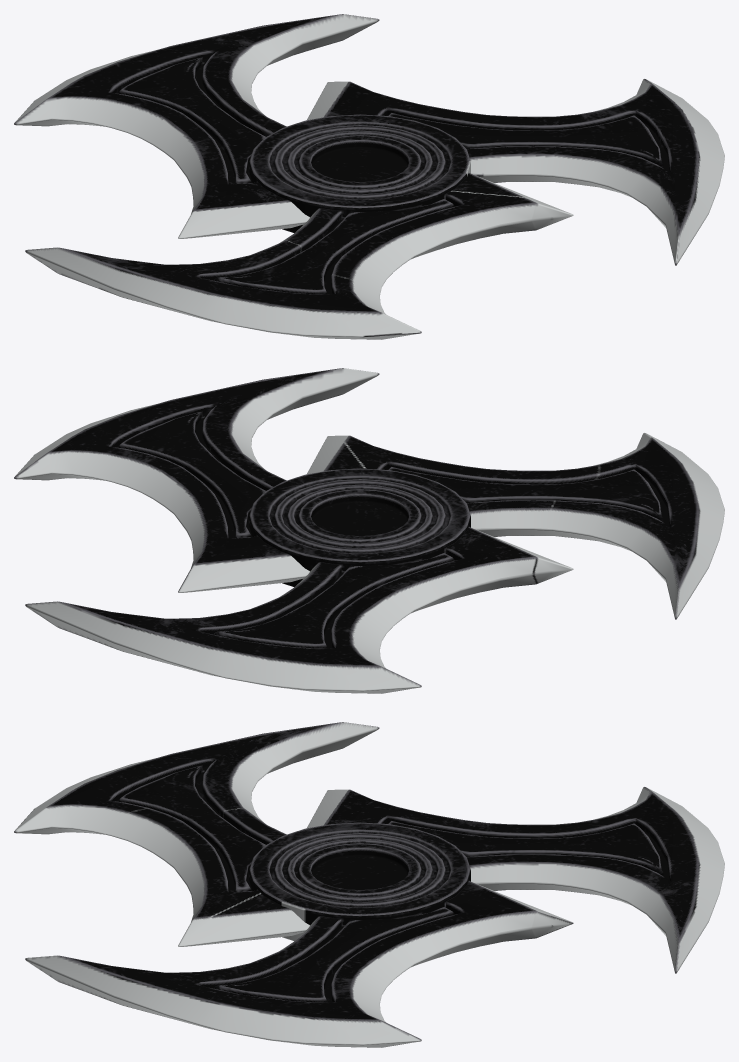
The model's file is shuriken.fbx.
3 views of the same model, one above another, from view 1: azimuth 30°, elevation 25°; view 2: azimuth 150°, elevation 25°; view 3: azimuth 270°, elevation 25° (orthographic).
Parts seen in each view (by area): view 1: low; view 2: low; view 3: low.
Boxes of the visible parts, x1,y1,x2,y2 form: low: (14, 14, 724, 339); low: (14, 368, 724, 693); low: (14, 722, 724, 1047).
Bounding box in the file's own units: 48.68 × 2.57 × 46.17.
Materials: 1 (1 with a texture image).
